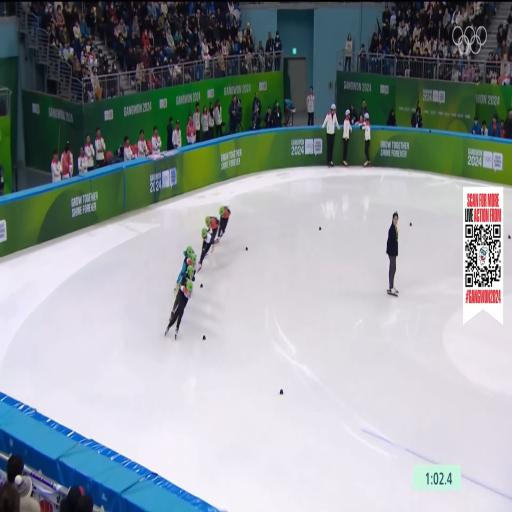Skater: (165, 280, 193, 338), (177, 246, 194, 284), (198, 229, 213, 271), (219, 206, 230, 238), (206, 217, 219, 243)
